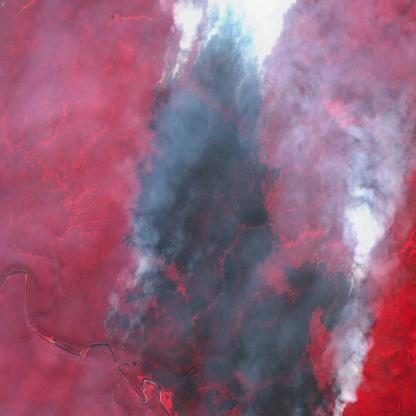fire: (146, 0, 277, 132), (102, 224, 195, 354), (296, 248, 364, 416)
